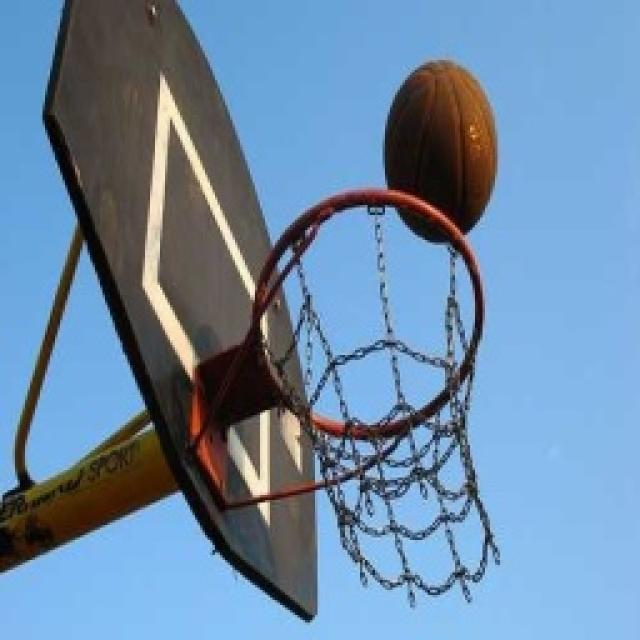rim: (373, 47, 502, 245)
